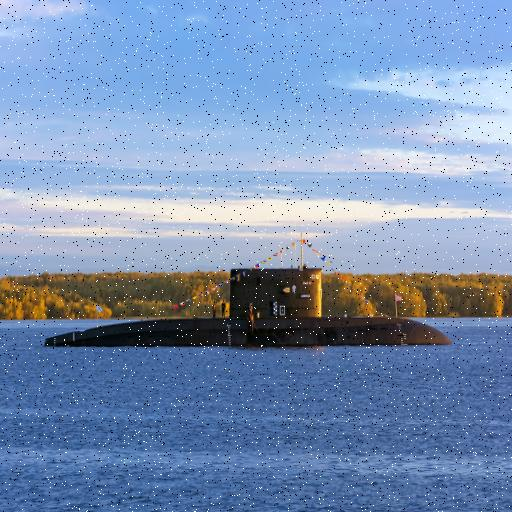submarine: (37, 250, 458, 346)
